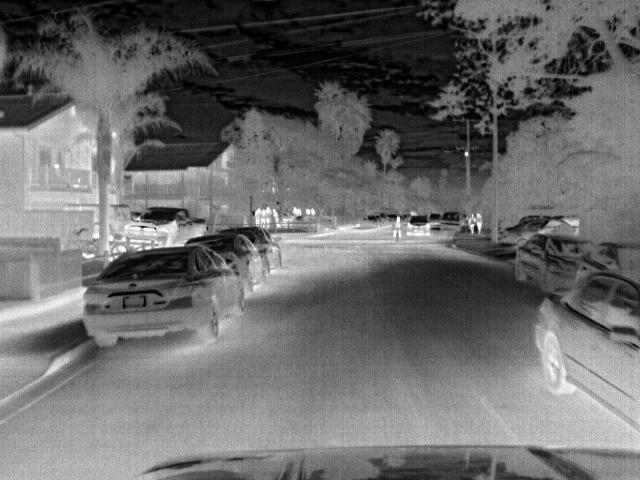car: (535, 270, 639, 434), (80, 246, 246, 348), (185, 232, 267, 294), (514, 234, 595, 294), (564, 241, 640, 291), (122, 208, 208, 250), (215, 227, 279, 272), (498, 220, 545, 248), (532, 218, 577, 239), (408, 214, 432, 235), (442, 211, 464, 230), (425, 212, 442, 229)
person: (391, 214, 406, 238), (271, 208, 285, 230), (473, 211, 485, 233), (468, 212, 480, 233)
